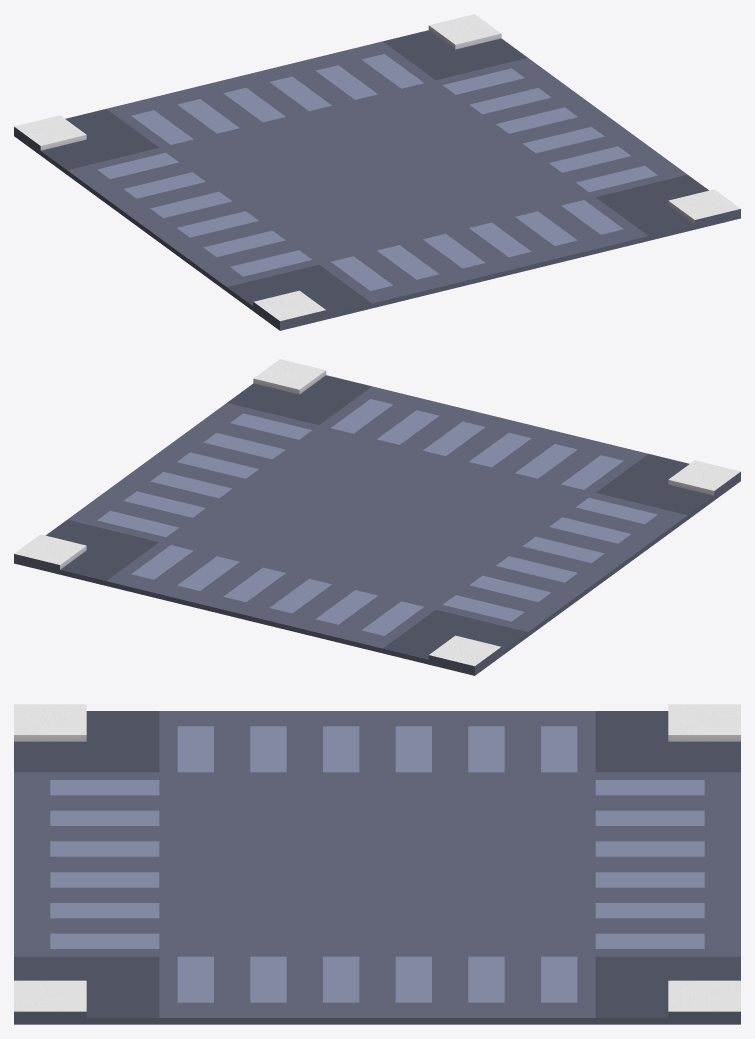
The model's file is road-crossroad-path.glb.
3 renders of one model, top to bottom at view 1: azimuth 30°, elevation 25°; view 2: azimuth 150°, elevation 25°; view 3: azimuth 270°, elevation 25°, orthographic. The views are drawn at different scales.
Visible parts, largest first — view 1: road-crossroad-path; view 2: road-crossroad-path; view 3: road-crossroad-path.
Part boxes in pixels (<box>): road-crossroad-path: <box>14,14,740,330</box>; road-crossroad-path: <box>14,359,740,675</box>; road-crossroad-path: <box>14,704,740,1024</box>.
Size of the model in its own units: 1 by 0.02 by 1.
1 material, 1 textured.
